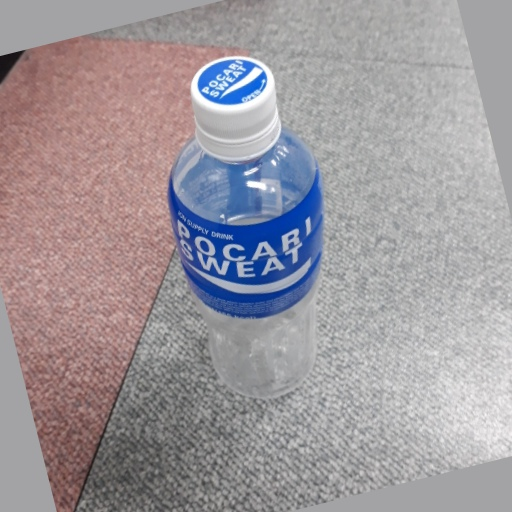Plastic_0: (170, 54, 328, 401)
